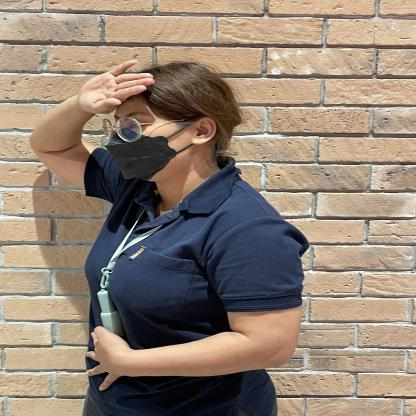Sick: (19, 45, 176, 146)
